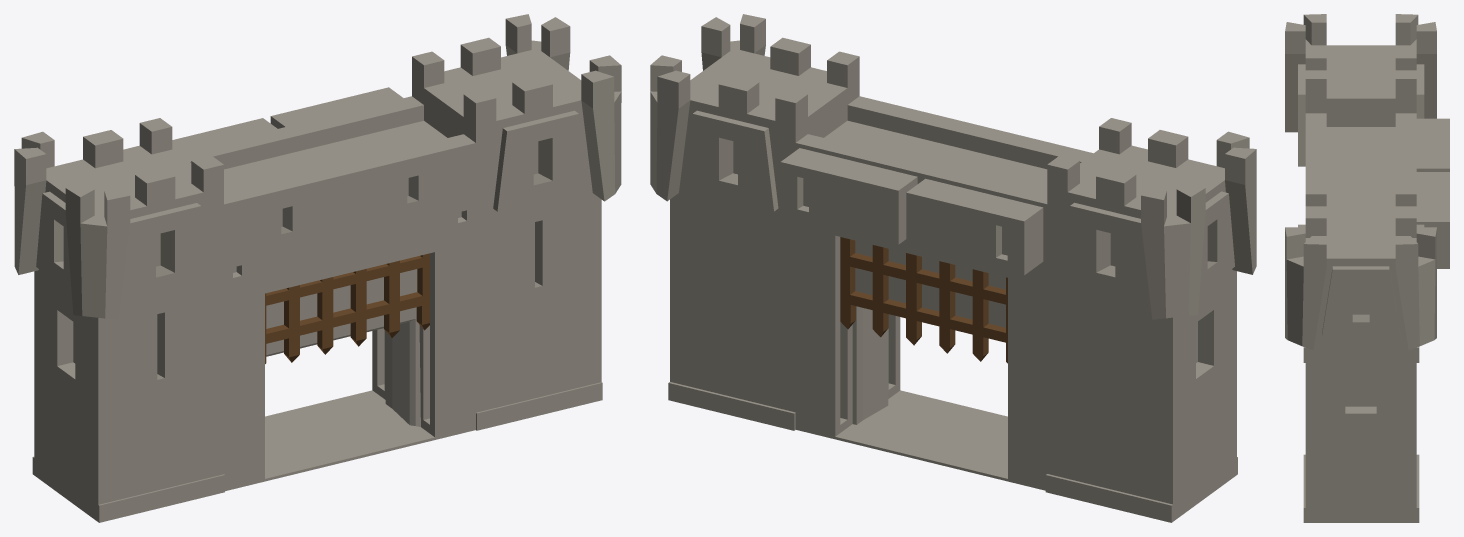
Rendered from k-gate.glb.
3 renders of one model, left to right at view 1: azimuth 30°, elevation 25°; view 2: azimuth 150°, elevation 25°; view 3: azimuth 270°, elevation 25°, orthographic. The views are drawn at different scales.
Visible parts, largest first — view 1: WallGateCircleTowers, FrontHarrow; view 2: WallGateCircleTowers, BackHarrow; view 3: WallGateCircleTowers.
Part boxes in pixels (x1,y1,x2,y2): WallGateCircleTowers: [14, 14, 621, 522]; FrontHarrow: [265, 253, 429, 363]; WallGateCircleTowers: [650, 14, 1256, 522]; BackHarrow: [840, 237, 1007, 363]; WallGateCircleTowers: [1285, 14, 1449, 522].
Bounding box in the file's own units: 2.16 × 1.25 × 0.6522.
